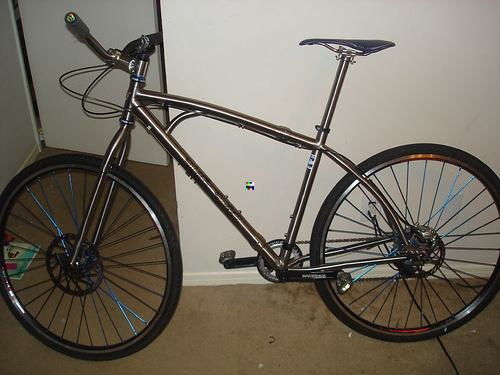car: (1, 12, 500, 360)
